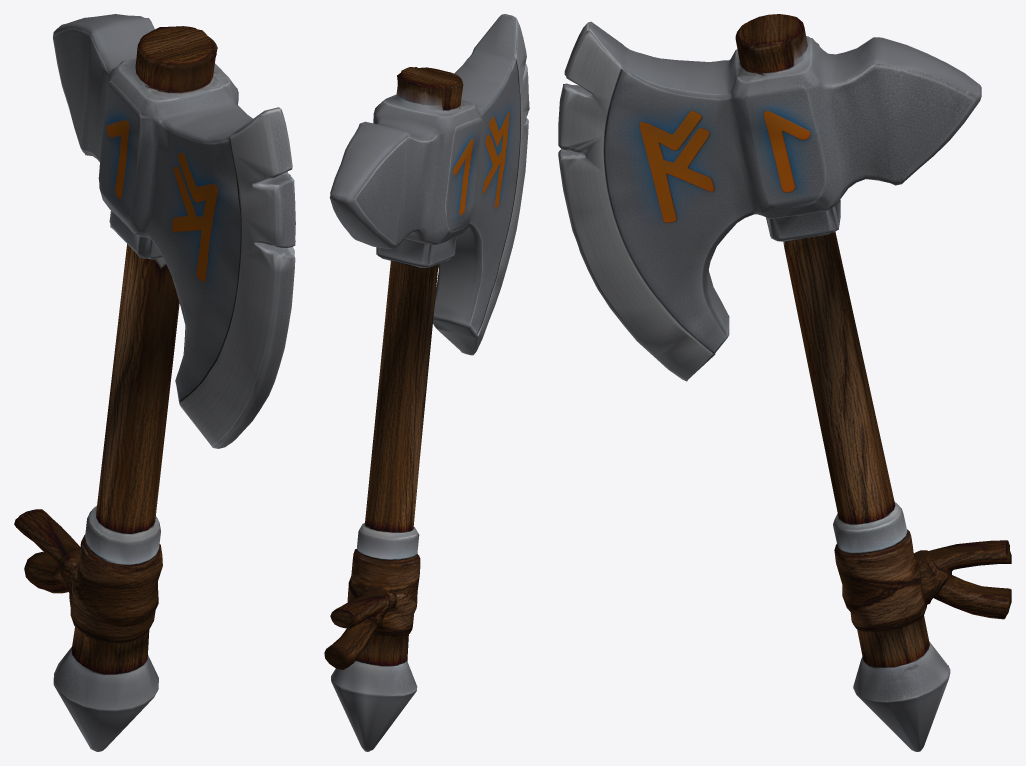
Rendered from runed_axe.glb.
3 renders of one model, left to right at view 1: azimuth 30°, elevation 25°; view 2: azimuth 150°, elevation 25°; view 3: azimuth 270°, elevation 25°, orthographic. The views are drawn at different scales.
Parts seen in each view (by area): view 1: tripo_node_4c737441-ab9f-4570-9794-0a7c0053e180; view 2: tripo_node_4c737441-ab9f-4570-9794-0a7c0053e180; view 3: tripo_node_4c737441-ab9f-4570-9794-0a7c0053e180.
Boxes of the visible parts, x1,y1,x2,y2 form: tripo_node_4c737441-ab9f-4570-9794-0a7c0053e180: (14, 14, 295, 751); tripo_node_4c737441-ab9f-4570-9794-0a7c0053e180: (324, 14, 529, 751); tripo_node_4c737441-ab9f-4570-9794-0a7c0053e180: (558, 14, 1011, 751).
Size of the model in its own units: 0.1348 by 0.998 by 0.5645.
1 material, 1 textured.
